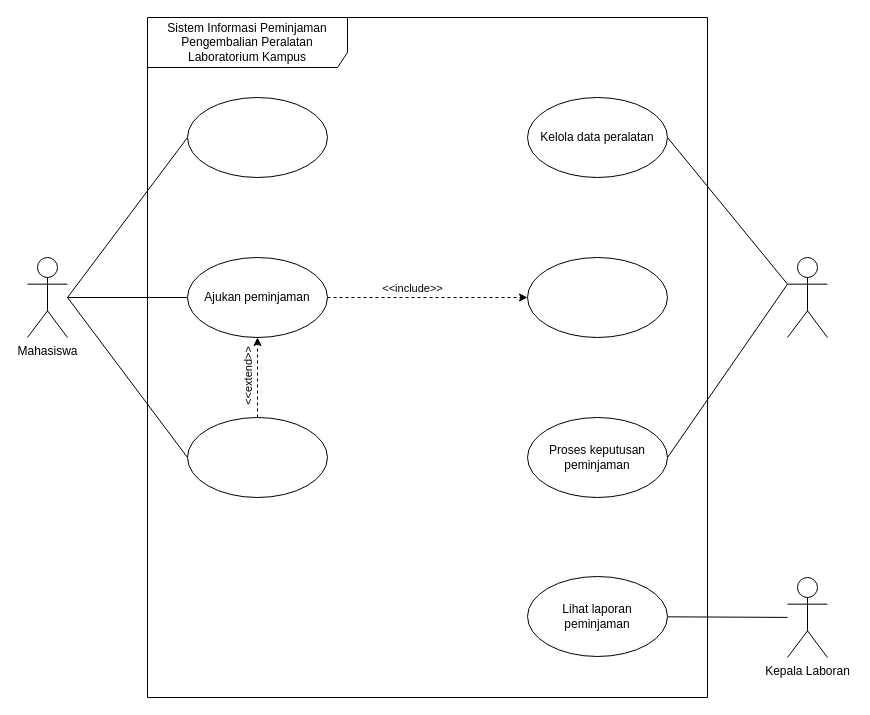
The diagram is 870 pixels wide and 715 high, and some of its shapes have lost their labels. Each missing label, with the box of its shape:
Cetak bukti pengajuan: (186, 416, 328, 498)
Lihat ketersediaan peralatan: (186, 96, 328, 178)
Periksa ketersediaan: (526, 256, 668, 338)
Petugas Laboran: (786, 256, 828, 338)
